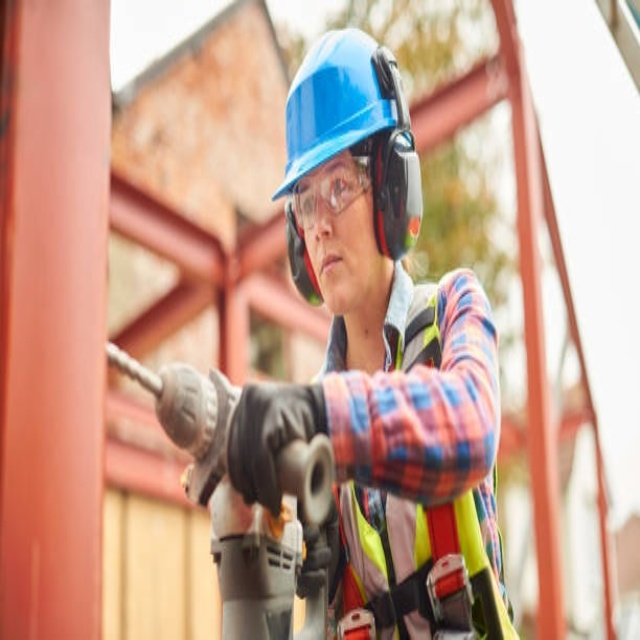Gafas: (292, 157, 373, 233)
Guantes: (223, 378, 325, 504)
Sin_mascara: (314, 246, 349, 303)
